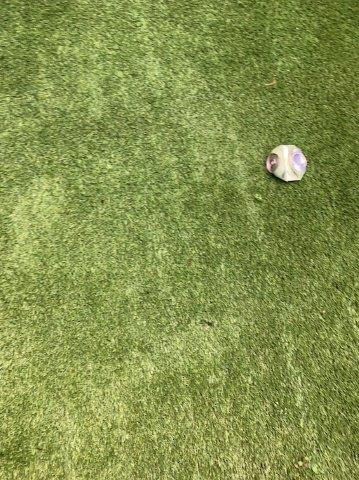kaleng: (266, 144, 308, 181)
